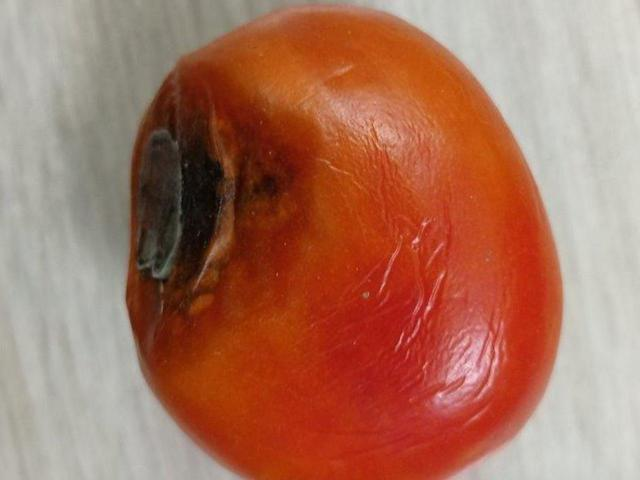defect: (119, 1, 566, 480)
